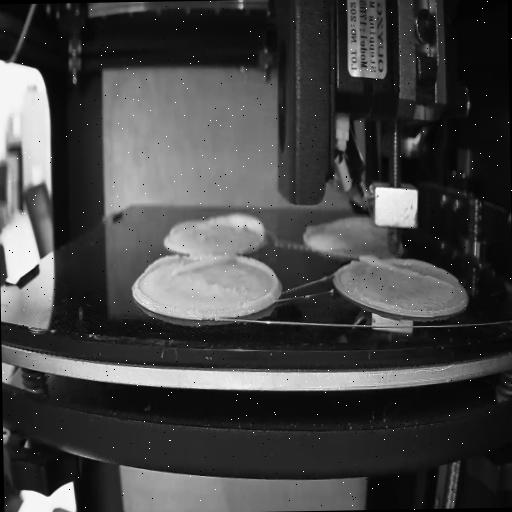over_extrusion: (361, 252, 459, 292), (144, 252, 234, 278), (238, 254, 279, 308), (208, 213, 268, 245), (303, 216, 377, 234)
